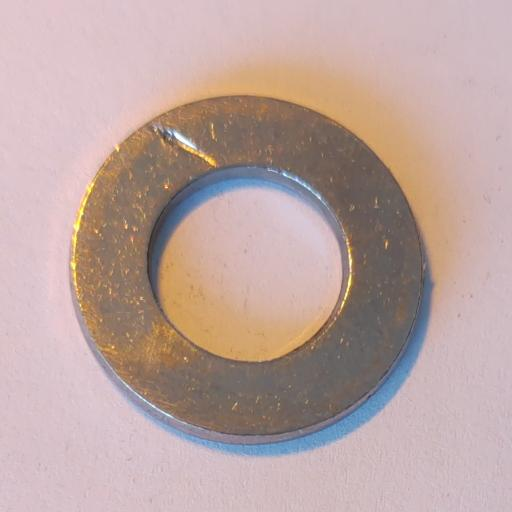scratch: (151, 124, 219, 169)
